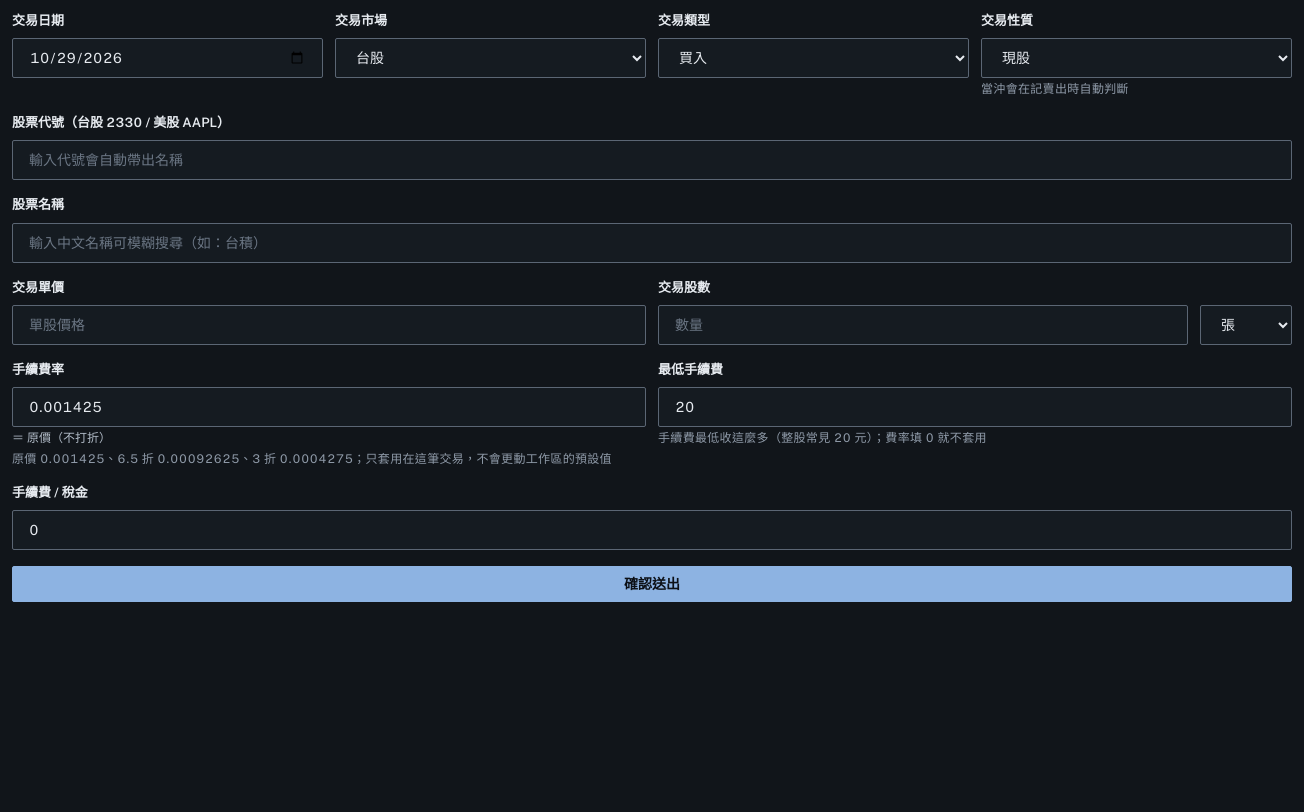
Test: TransactionForm 名稱搜尋載入指示 › S5: 點擊表單其他處會收合下拉並停止轉圈
This screenshot has width=1304, height=812.
In the field labelled "股票名稱": [652, 242] box [12,222,1292,262], type "台積"
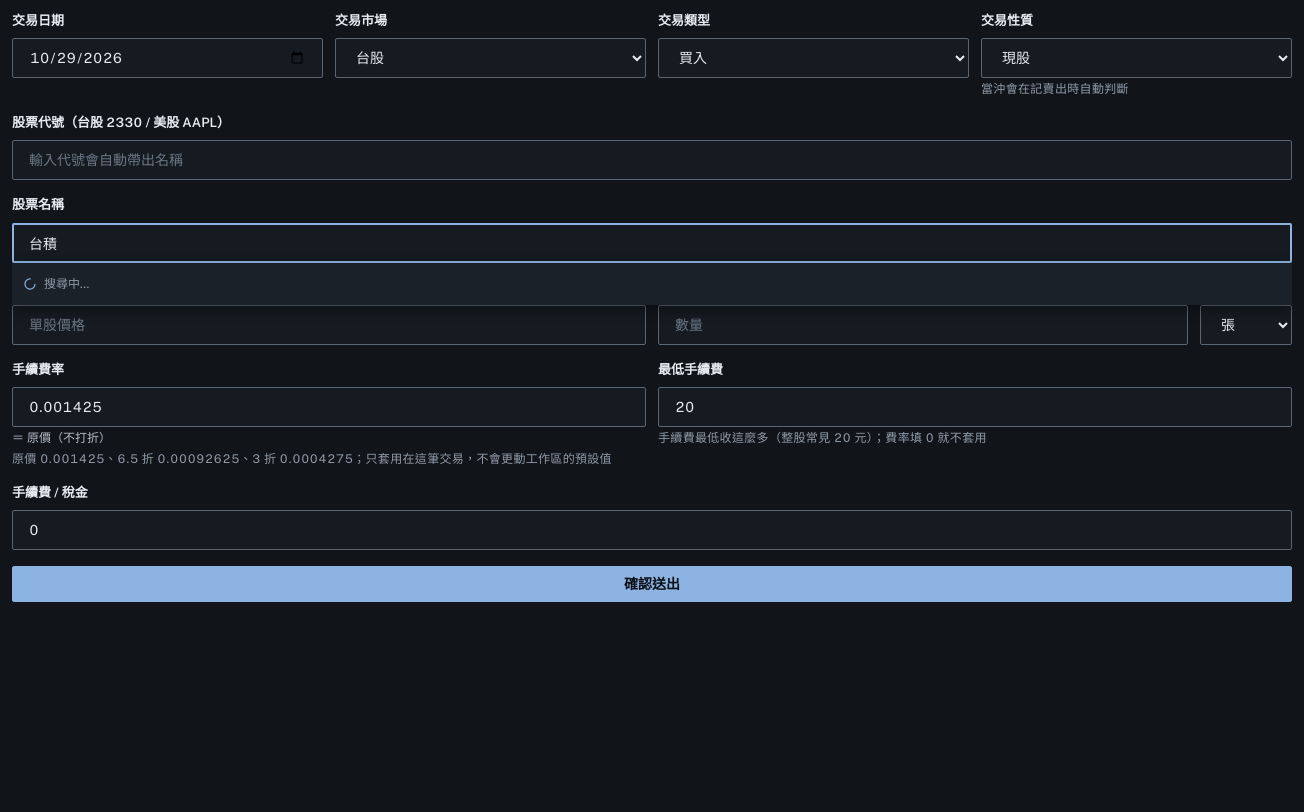
Now the message "搜尋中…" is shown, box [24,276,89,290]
Click the number field labelled "交易單價": [329, 325] box [12,305,646,345]
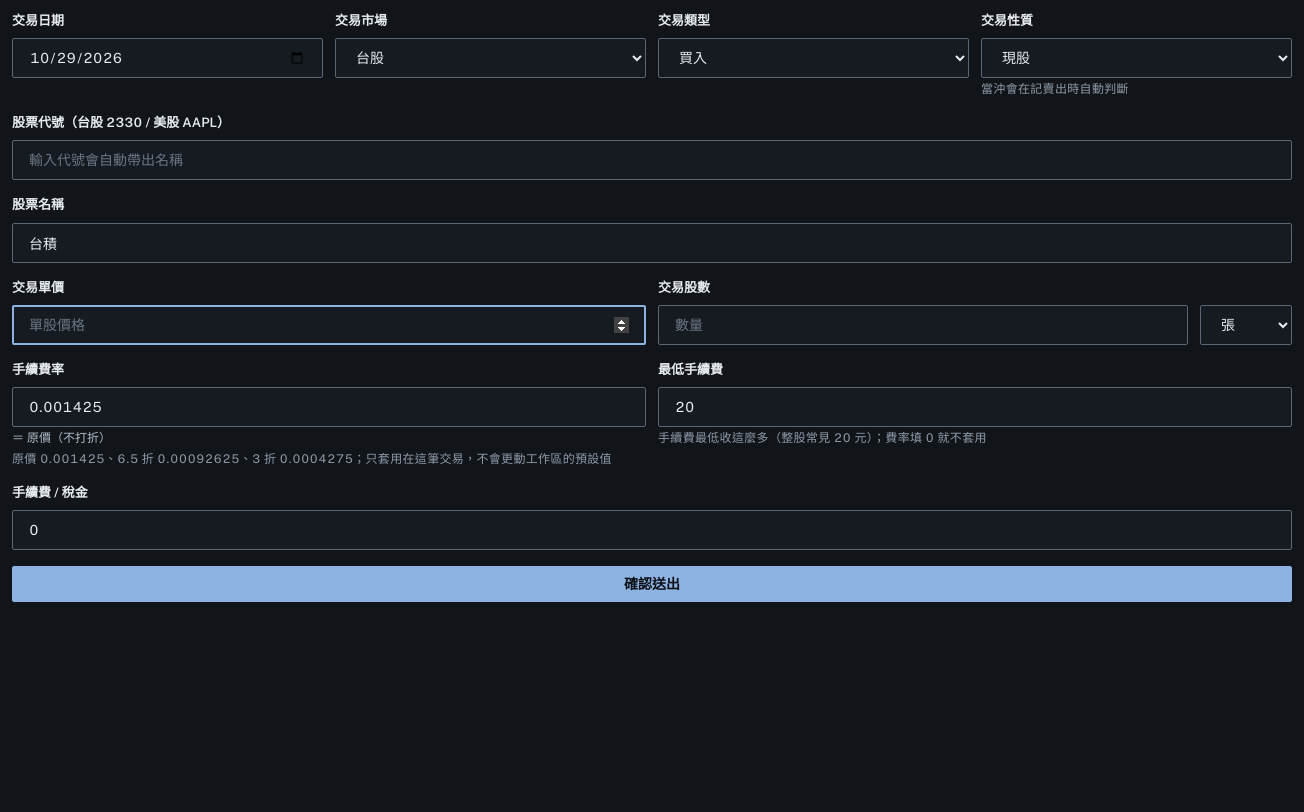
Now the message with test id "name-search-loading" is gone
